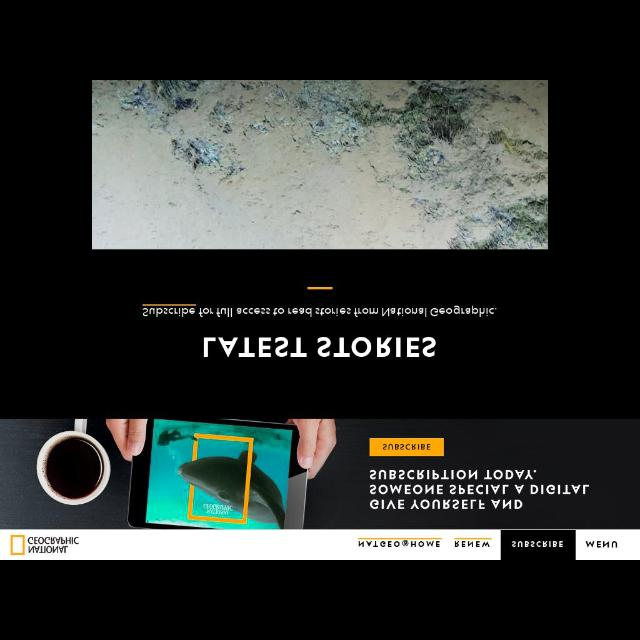backgroundimage: (1, 418, 639, 530)
image: (91, 81, 548, 249), (11, 534, 80, 556)
text: (370, 468, 590, 508), (203, 336, 437, 358), (142, 306, 496, 316), (358, 538, 440, 548), (512, 538, 562, 548), (381, 442, 431, 452), (454, 538, 488, 548), (586, 540, 618, 548)
textbutton: (502, 532, 574, 558), (370, 437, 444, 458)
toolbar: (1, 530, 639, 560)
